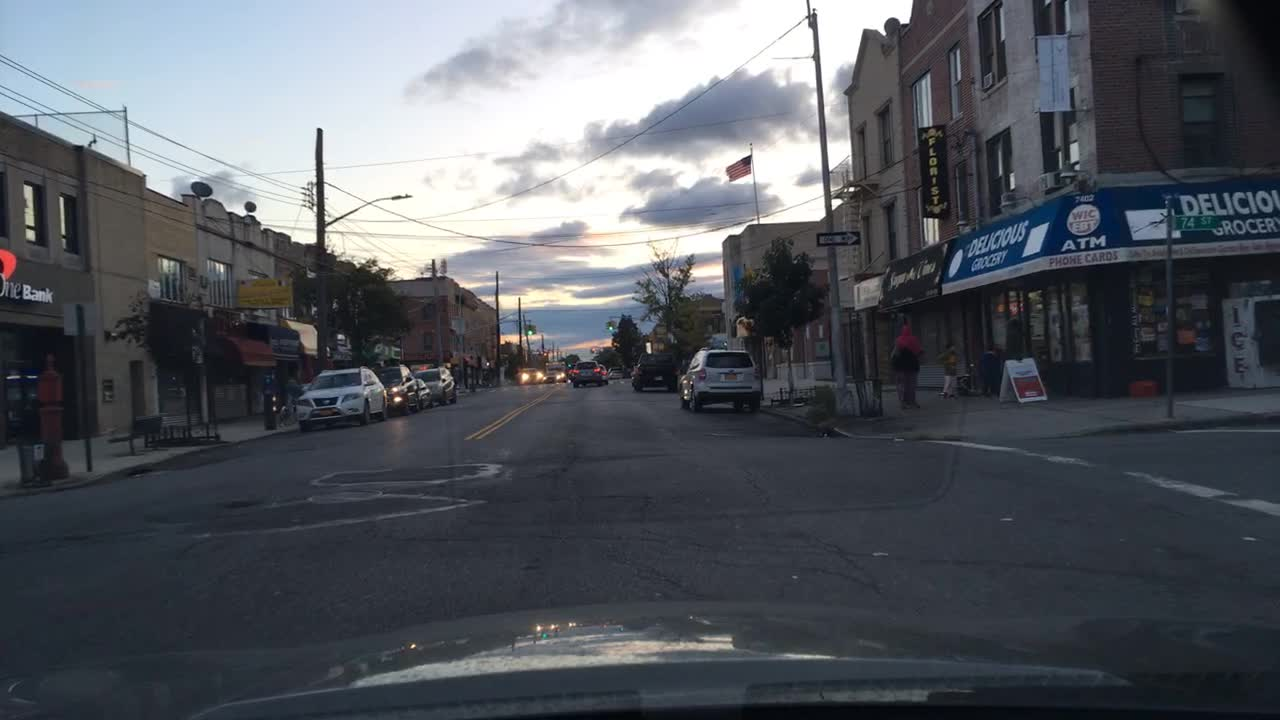car: (293, 364, 389, 429), (677, 343, 763, 412), (379, 364, 430, 412), (630, 351, 679, 391), (408, 366, 458, 402), (566, 359, 601, 387), (516, 365, 540, 384), (542, 370, 566, 381), (606, 366, 624, 379)
person: (890, 323, 921, 405), (976, 340, 997, 398), (938, 343, 959, 398)
traffic light: (602, 320, 609, 331), (612, 318, 618, 330), (532, 323, 537, 334), (527, 323, 531, 335), (608, 320, 612, 331)
traffic sign: (813, 228, 860, 246), (1172, 213, 1219, 231)
